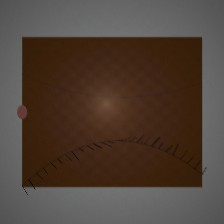corneal_ulcer: (100, 104, 136, 133)
